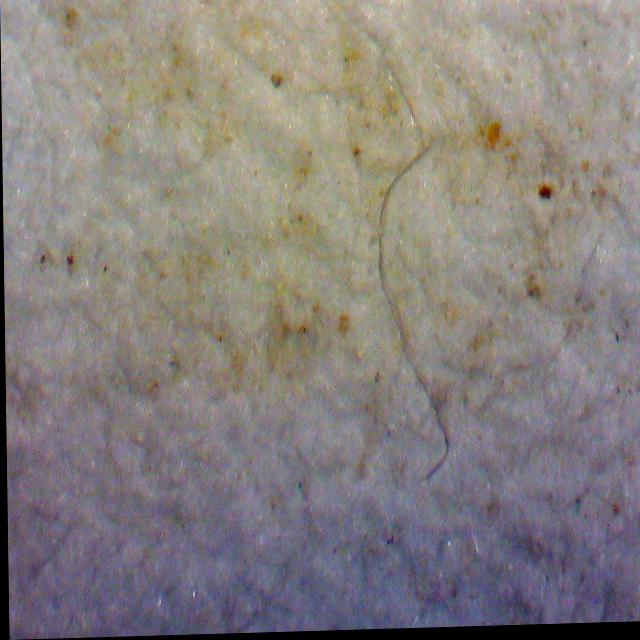microplastic: (377, 144, 448, 486)
